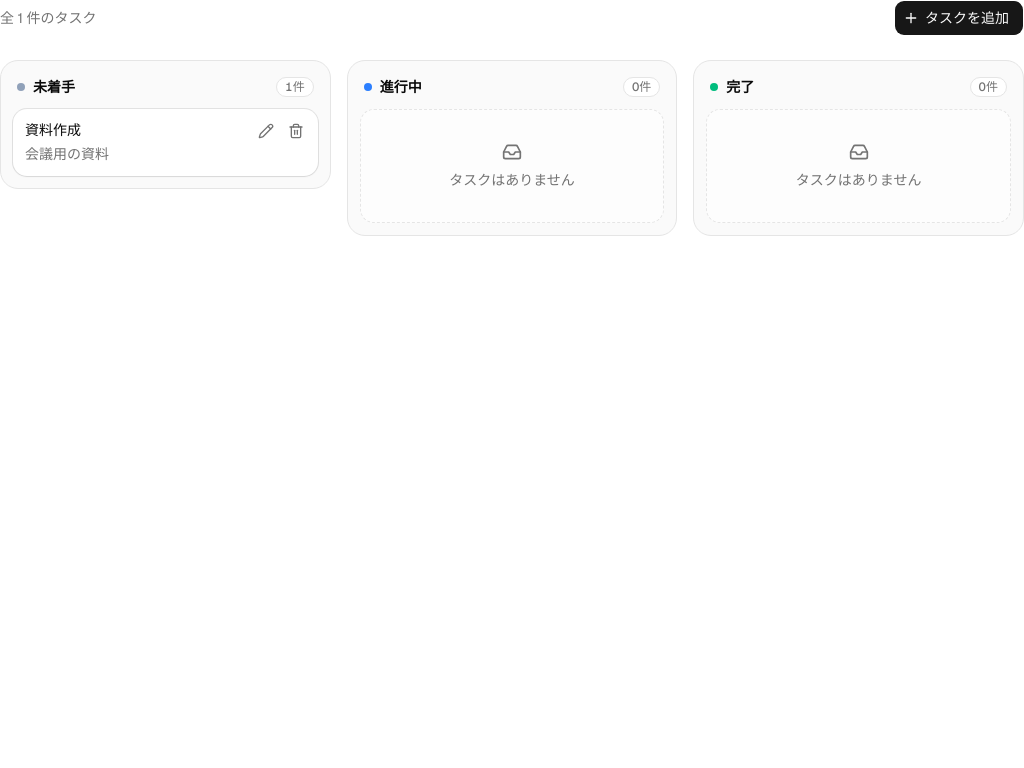
Test case: KanbanBoard › 編集 › 保存に失敗した場合、エラーを表示し、一覧は変更前のままにする
This screenshot has width=1024, height=768.
Later steps or results of the test are not shown.
Click the button named "「資料作成」を編集" at [266, 131], box [252,117,280,145]
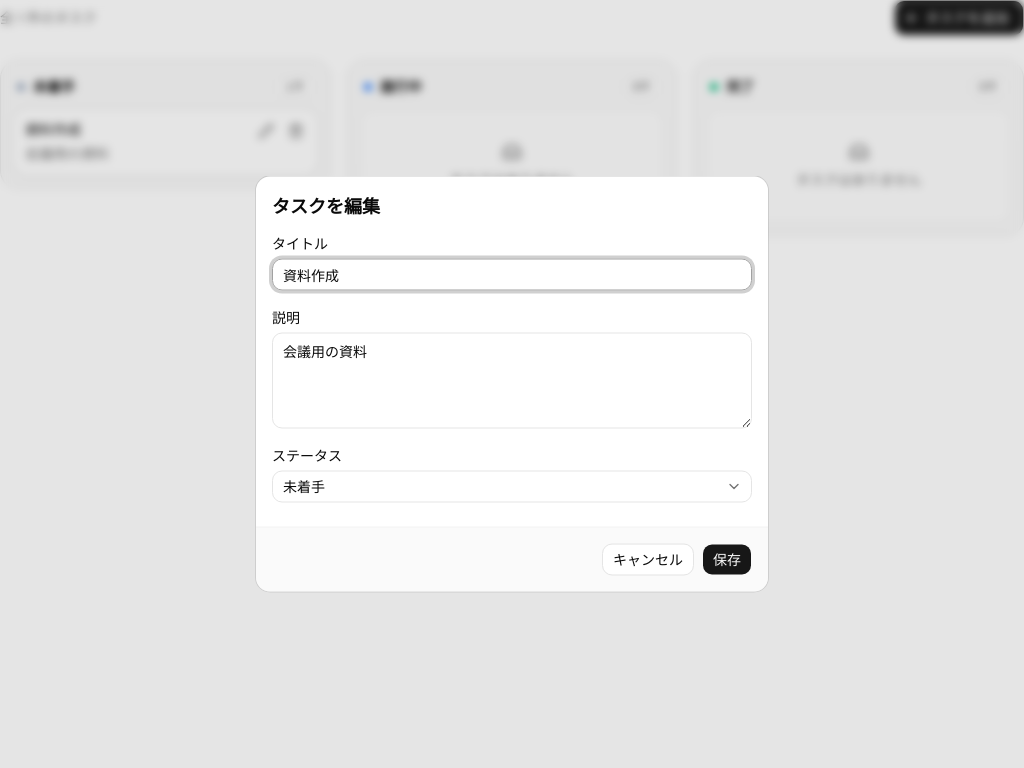
Replace the text in the field labelled "タイトル" with "変更後" at [512, 274], box [272,258,752,290]
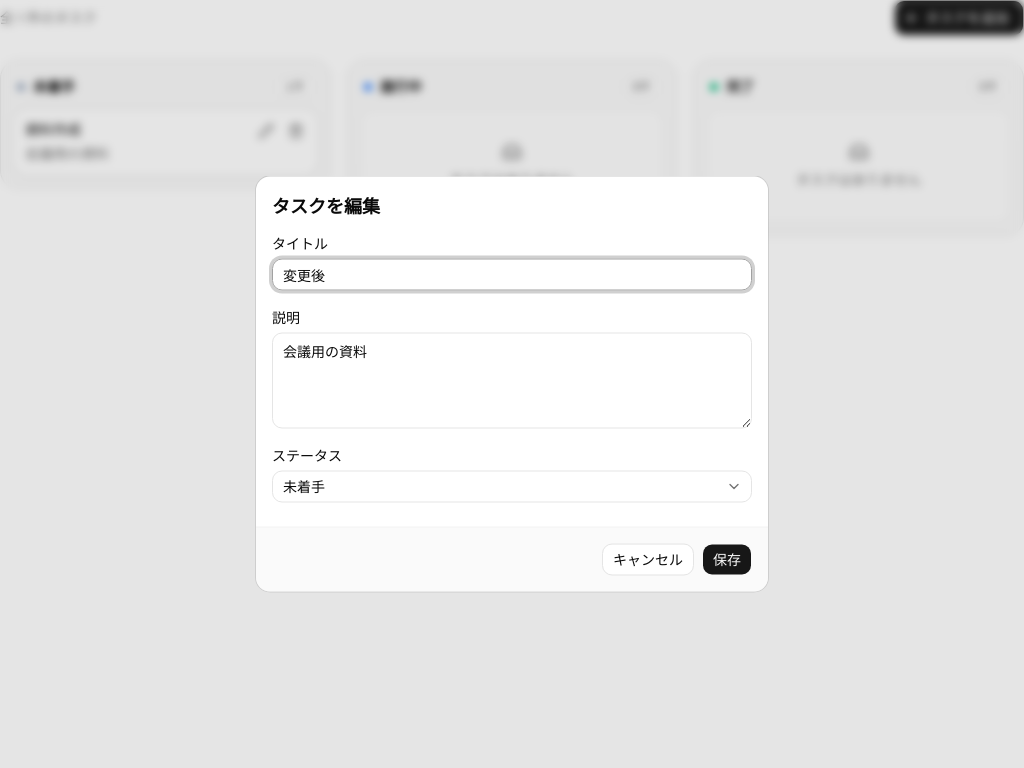
Click the button "保存" at [727, 560], box [702,544,752,576]
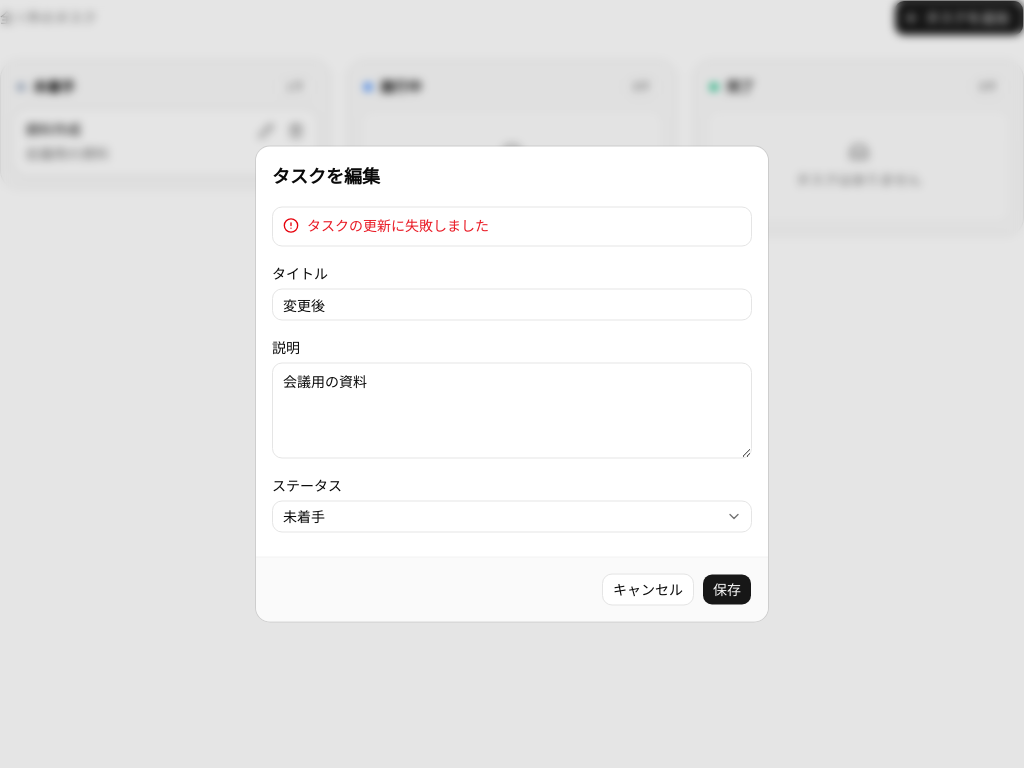
Expected: the message reads "タスクの更新に失敗しました", [307,216,489,234]
